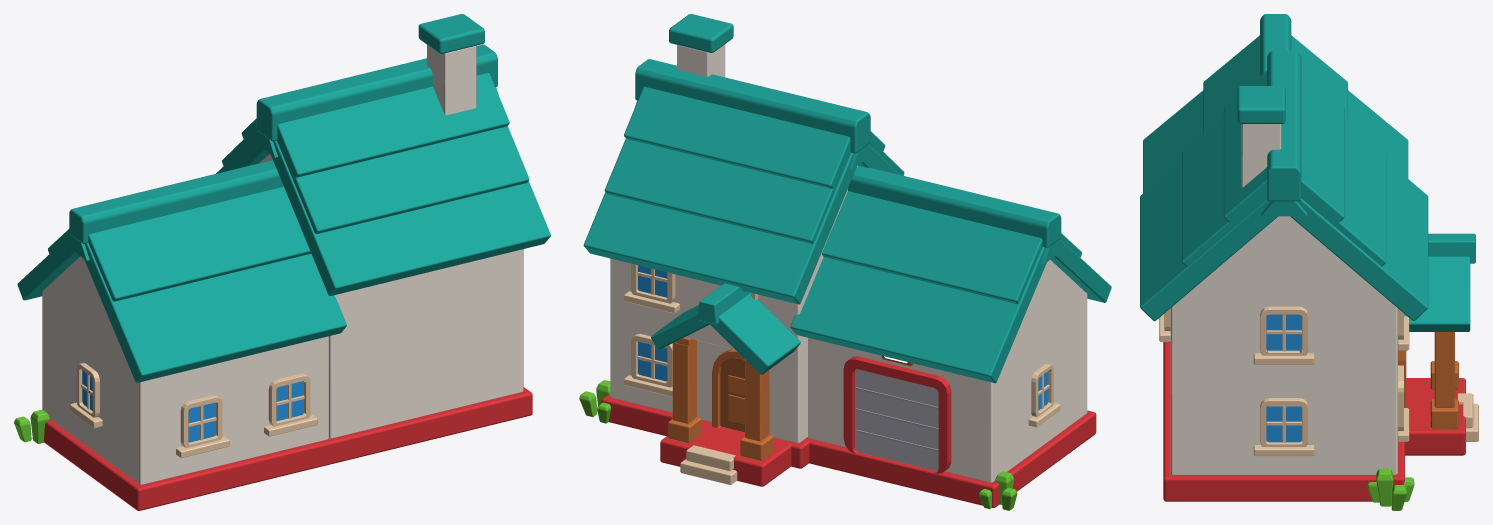
File: BigHouse.glb
The picture shows the model from 3 angles, left to right: view 1: azimuth 30°, elevation 25°; view 2: azimuth 150°, elevation 25°; view 3: azimuth 270°, elevation 25°; orthographic projection. The views are drawn at different scales.
Parts seen in each view (by area): view 1: M_BigHouse_RoofTeal, M_BigHouse_HouseWall, M_BigHouse_ToyRed, M_BigHouse_HouseTrim, M_BigHouse_TruckCab, M_BigHouse_Leaves; view 2: M_BigHouse_RoofTeal, M_BigHouse_HouseWall, M_BigHouse_ToyRed, M_BigHouse_ToyLeg, M_BigHouse_PlaneFlap, M_BigHouse_HouseTrim, M_BigHouse_Leaves, M_BigHouse_TruckCab, M_BigHouse_FenceWood, M_BigHouse_Steel; view 3: M_BigHouse_RoofTeal, M_BigHouse_HouseWall, M_BigHouse_ToyRed, M_BigHouse_HouseTrim, M_BigHouse_ToyLeg, M_BigHouse_TruckCab, M_BigHouse_Leaves.
Part boxes in pixels (<box>): M_BigHouse_RoofTeal: <box>17,14,550,382</box>; M_BigHouse_HouseWall: <box>42,45,523,484</box>; M_BigHouse_ToyRed: <box>43,387,532,510</box>; M_BigHouse_HouseTrim: <box>69,362,317,458</box>; M_BigHouse_TruckCab: <box>82,370,303,442</box>; M_BigHouse_Leaves: <box>14,409,49,443</box>; M_BigHouse_RoofTeal: <box>583,14,1111,383</box>; M_BigHouse_HouseWall: <box>610,44,1087,482</box>; M_BigHouse_ToyRed: <box>601,356,1096,507</box>; M_BigHouse_ToyLeg: <box>668,337,773,460</box>; M_BigHouse_PlaneFlap: <box>855,369,938,471</box>; M_BigHouse_HouseTrim: <box>624,263,1060,485</box>; M_BigHouse_Leaves: <box>579,380,1017,510</box>; M_BigHouse_TruckCab: <box>638,265,1048,410</box>; M_BigHouse_FenceWood: <box>720,356,913,432</box>; M_BigHouse_Steel: <box>855,387,938,451</box>; M_BigHouse_RoofTeal: <box>1140,14,1475,331</box>; M_BigHouse_HouseWall: <box>1170,124,1397,474</box>; M_BigHouse_ToyRed: <box>1163,341,1465,501</box>; M_BigHouse_HouseTrim: <box>1159,306,1478,456</box>; M_BigHouse_ToyLeg: <box>1398,332,1458,428</box>; M_BigHouse_TruckCab: <box>1266,314,1301,442</box>; M_BigHouse_Leaves: <box>1367,468,1414,510</box>.
Bounding box in the file's own units: 18.81 × 15.05 × 11.92.
